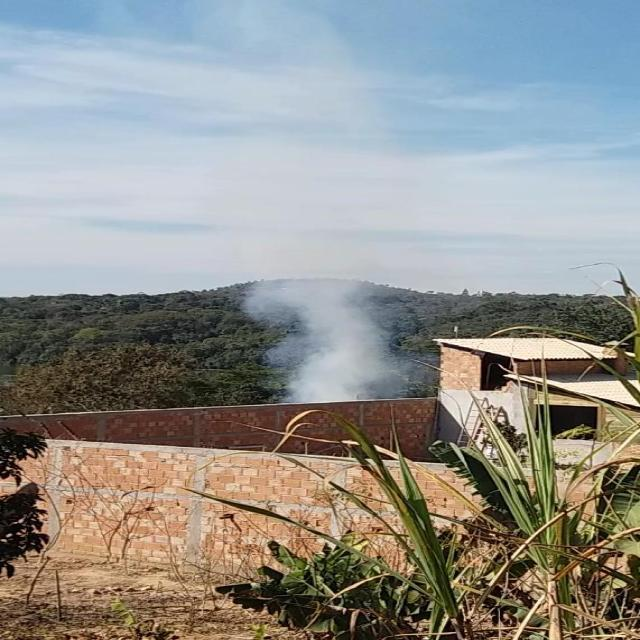Smoke: (194, 10, 426, 408)
